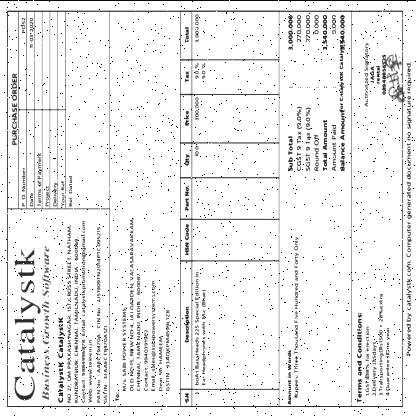Paragraph: (6, 10, 74, 208), (114, 214, 172, 403), (56, 218, 110, 405), (286, 11, 348, 173), (11, 243, 53, 402), (356, 291, 392, 405), (404, 58, 414, 358), (286, 234, 300, 406)
Table: (180, 11, 210, 405)
